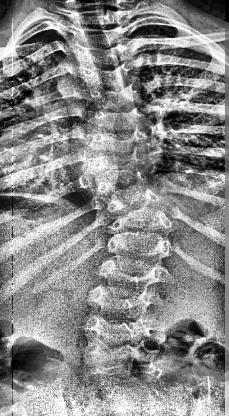Vertebrae: (88, 282, 156, 320), (83, 171, 157, 205), (98, 180, 164, 216), (80, 151, 154, 183), (101, 228, 175, 260), (88, 316, 156, 350), (78, 82, 142, 118), (100, 253, 168, 285), (81, 125, 151, 156), (99, 206, 175, 234), (80, 107, 150, 137), (72, 42, 132, 72), (73, 62, 129, 92), (69, 24, 127, 51), (69, 7, 127, 29)
